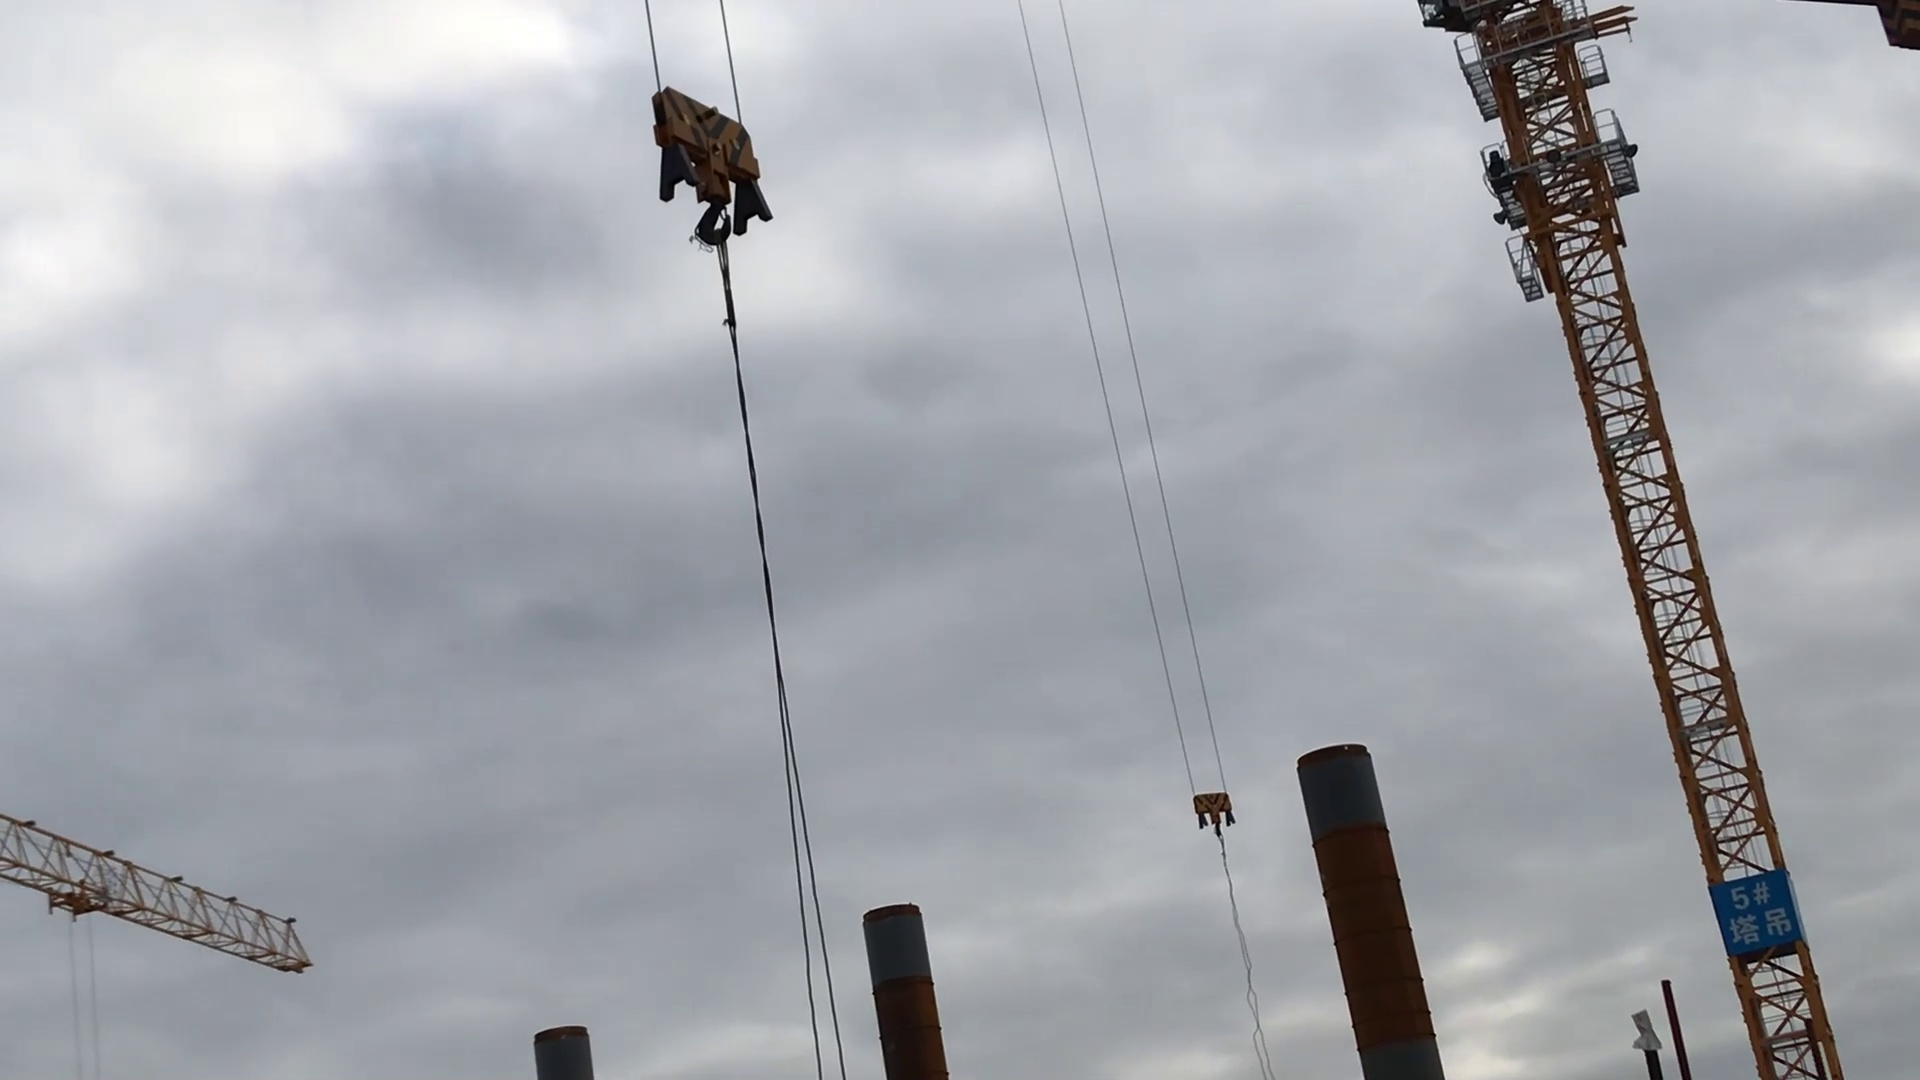hook: (632, 71, 786, 258), (1188, 790, 1244, 843)
